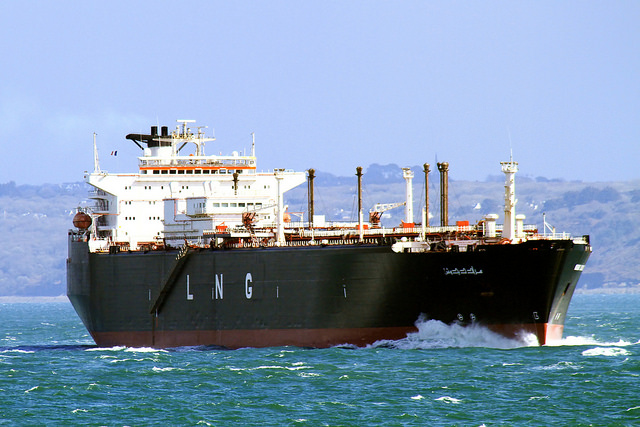LNG_ship: (68, 115, 599, 354)
